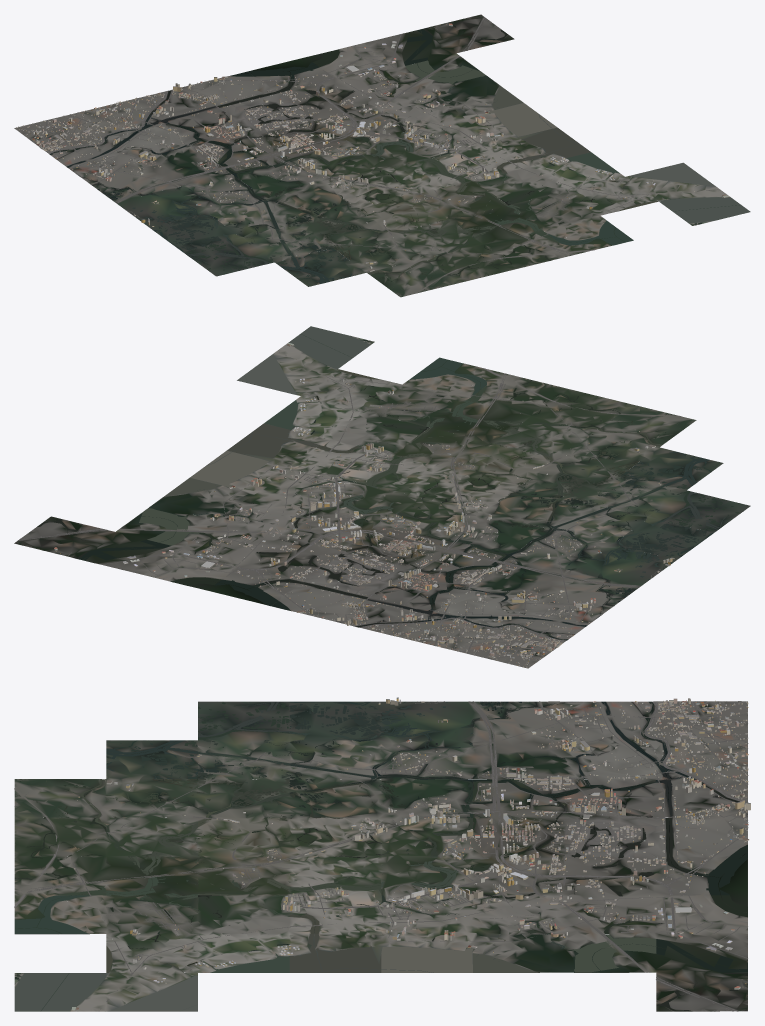
The picture shows the model from 3 angles, top to bottom: view 1: azimuth 30°, elevation 25°; view 2: azimuth 150°, elevation 25°; view 3: azimuth 270°, elevation 25°; orthographic projection. The views are drawn at different scales.
Visible parts, largest first — view 1: ground, water, buildings, roads; view 2: ground, water, buildings, roads; view 3: ground, water, buildings, roads.
Part boxes in pixels (box(x1,y1,x2,y2)): ground: box(14, 14, 739, 297); water: box(50, 24, 750, 295); buildings: box(16, 23, 728, 272); roads: box(25, 17, 719, 288); ground: box(14, 334, 750, 668); water: box(37, 326, 741, 640); buildings: box(54, 343, 674, 667); roads: box(18, 352, 680, 667); ground: box(14, 701, 747, 1011); water: box(14, 701, 747, 1011); buildings: box(67, 697, 750, 1010); roads: box(14, 701, 748, 1011).
Bounding box in the file's own units: 11230 × 127 × 11258.
